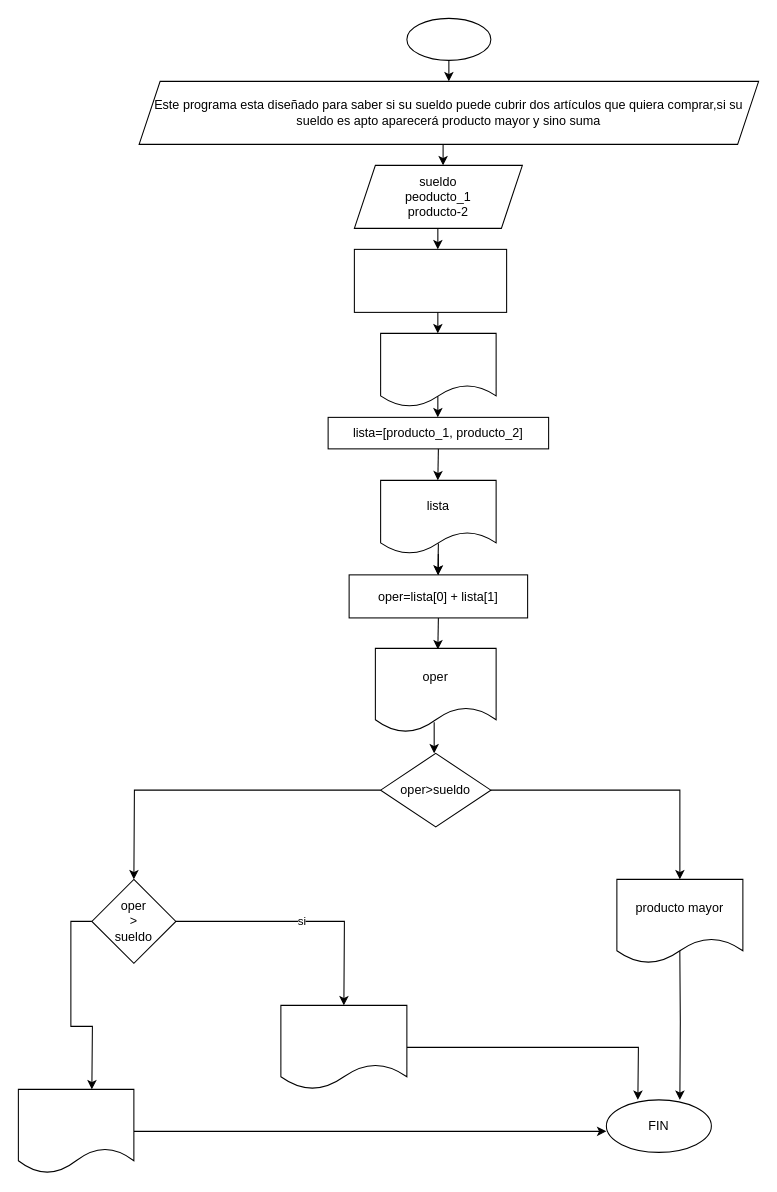
Some shapes in this 777 by 1192 pixel diagram are drawn without their labels. The centre of each missing label's shape, as x and y in pixels:
dicc: (438,369)
dicc={ "sueldo": sueldo, "producto": producto_1, "producto: producto_2" }: (430,280)
INICIO: (448,38)
producto menor: (343,1046)
resultados iguales: (75,1130)
